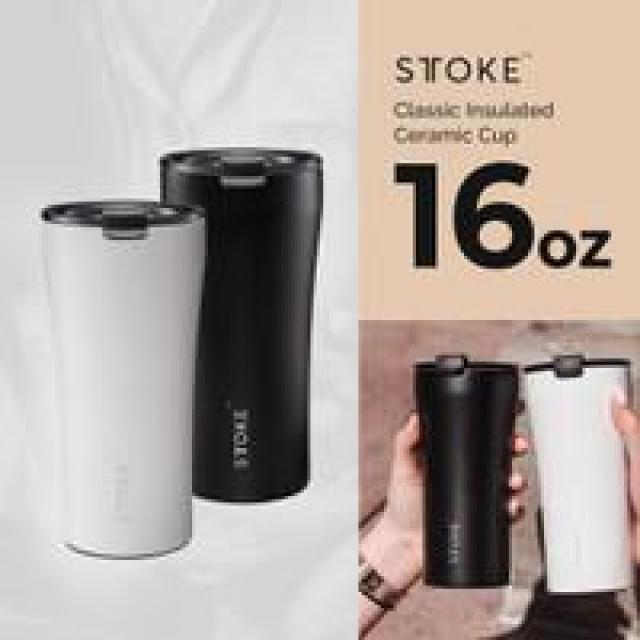bottle: (40, 198, 206, 560), (158, 147, 325, 506), (411, 355, 520, 592), (522, 358, 630, 596)
